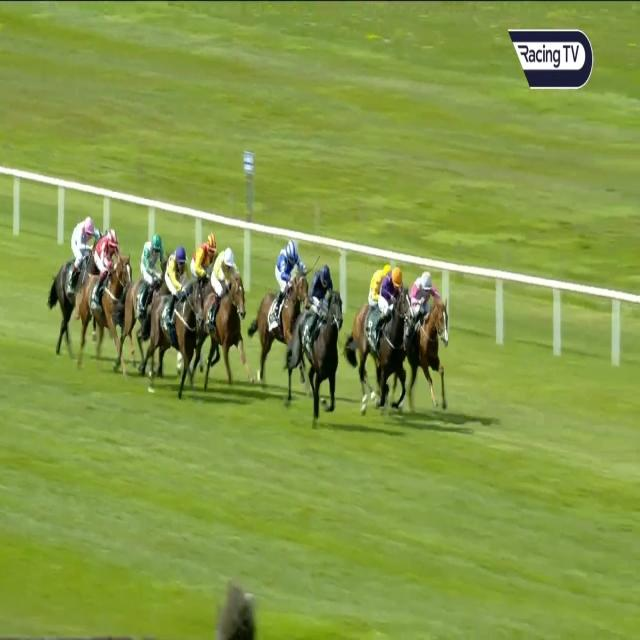horses-racing: (284, 265, 340, 417), (357, 268, 410, 421), (258, 239, 309, 387), (80, 228, 134, 359), (200, 247, 244, 388), (404, 270, 449, 404), (54, 216, 99, 348), (150, 244, 193, 376), (127, 231, 170, 354), (190, 226, 224, 292), (365, 260, 397, 310)
